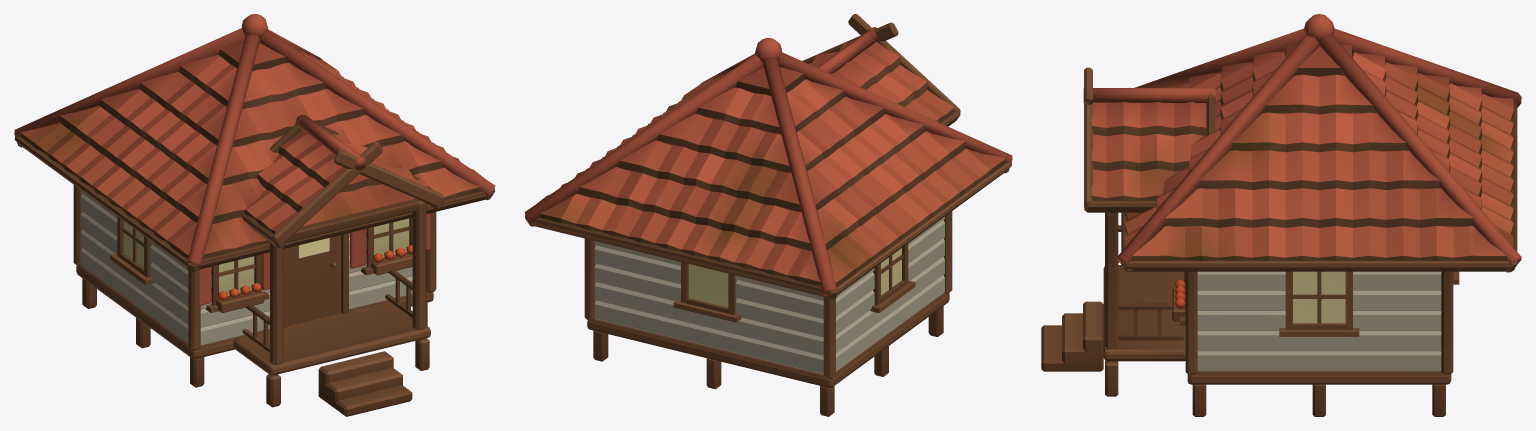
The model's file is rumah_e.glb.
3 renders of one model, left to right at view 1: azimuth 30°, elevation 25°; view 2: azimuth 150°, elevation 25°; view 3: azimuth 270°, elevation 25°, orthographic. The views are drawn at different scales.
Parts seen in each view (by area): view 1: rumah_e_mesh; view 2: rumah_e_mesh; view 3: rumah_e_mesh.
Part boxes in pixels (box(x1,y1,x2,y2)): rumah_e_mesh: box(14, 14, 495, 416); rumah_e_mesh: box(524, 14, 1012, 416); rumah_e_mesh: box(1041, 14, 1521, 416).
Size of the model in its own units: 4.96 by 4.68 by 6.01.
